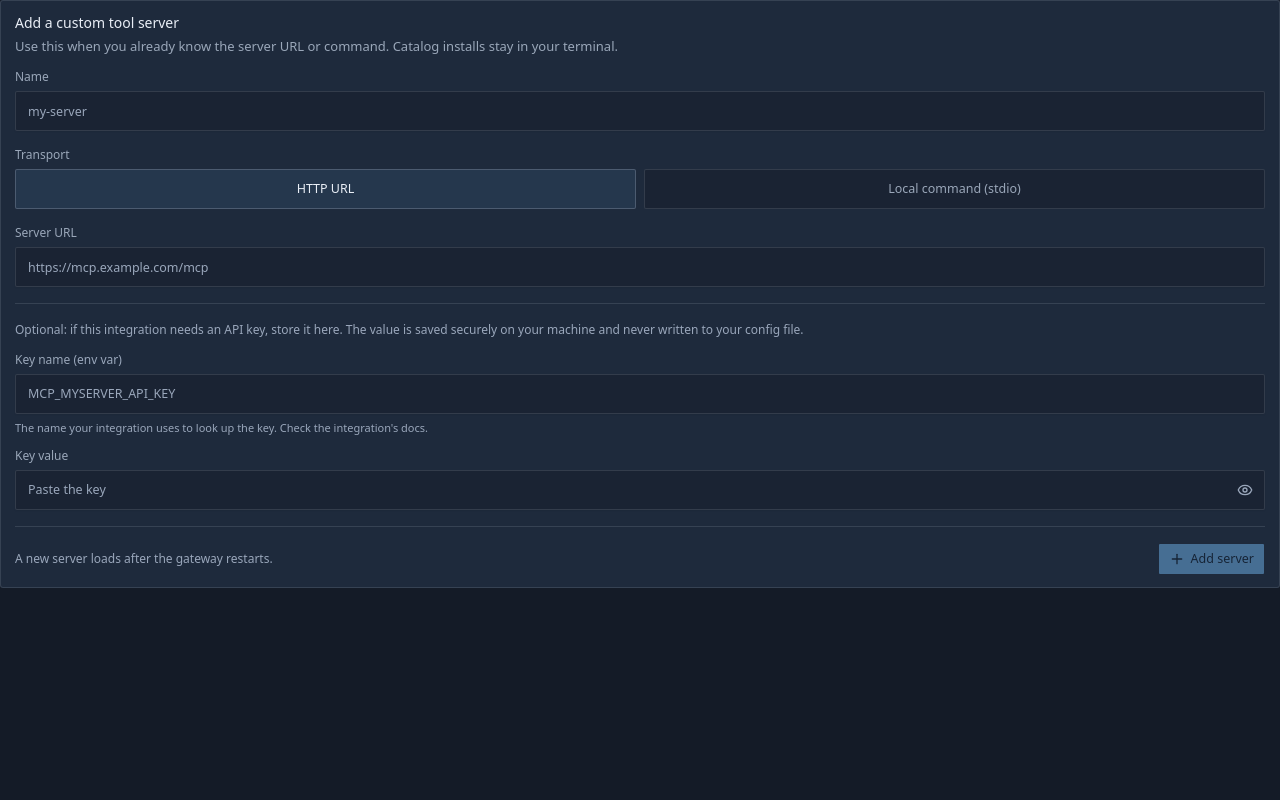
Test: AddMcpServerForm — guided add › blocks submit when a key value has no env var to store it under
Type "k" into the field labelled "Name" at x=640, y=111, box [15,91,1265,131]
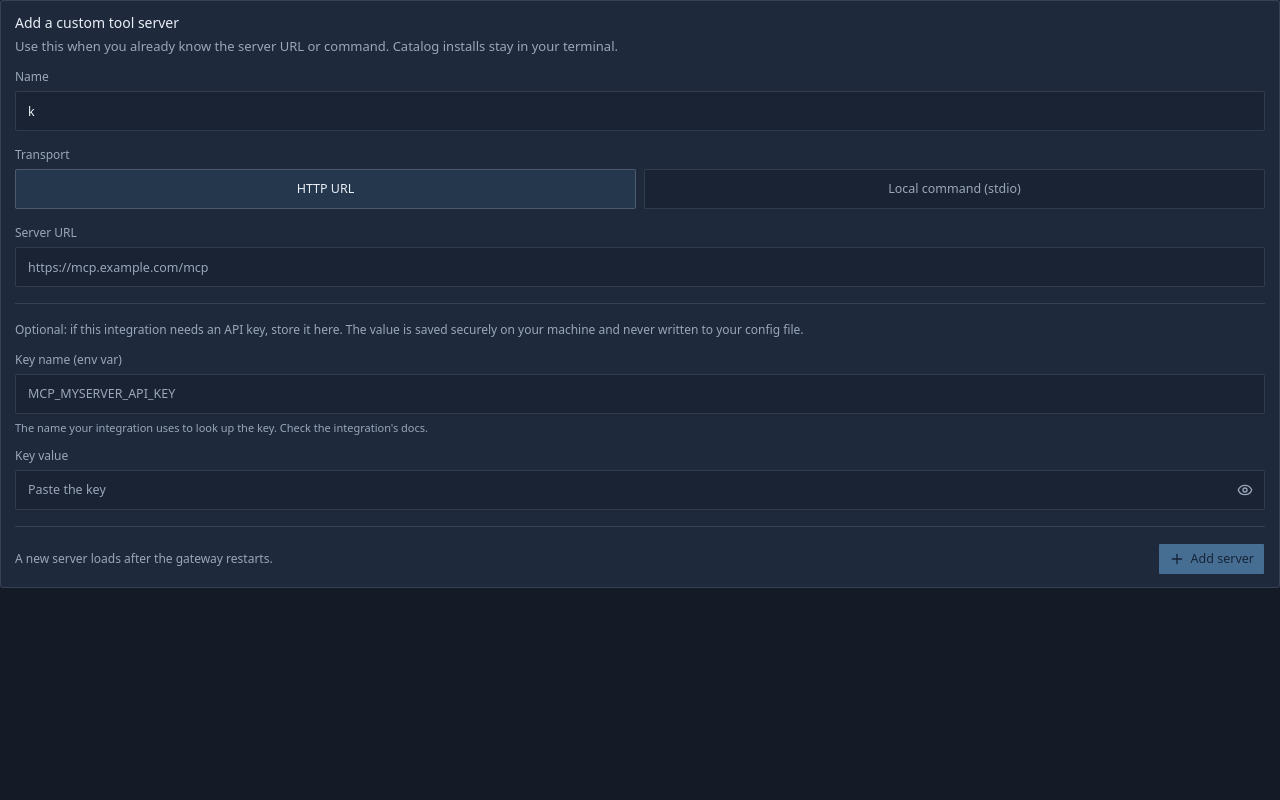
Type "https://x/mcp" into the field labelled "Server URL" at x=640, y=267, box [15,247,1265,287]
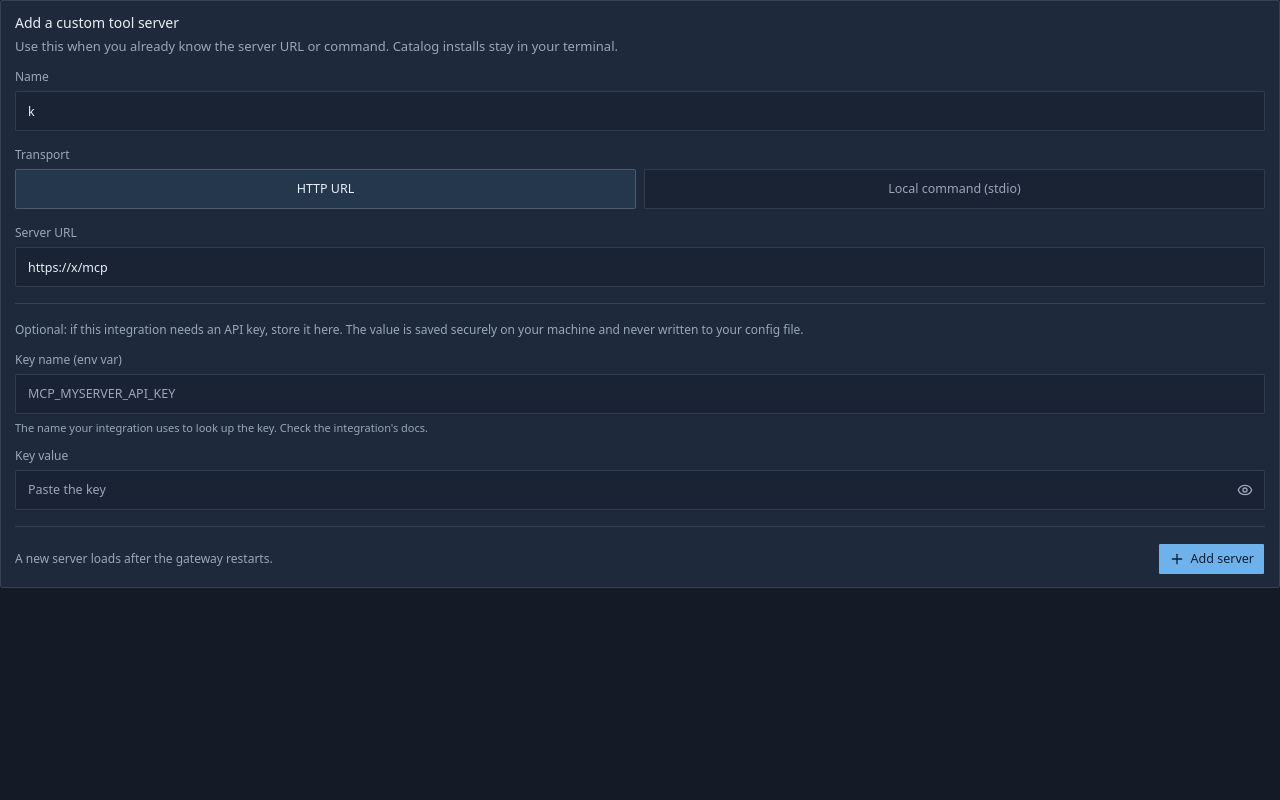
Type "orphan" into the password field labelled "Key value" at x=640, y=490, box [15,470,1265,510]
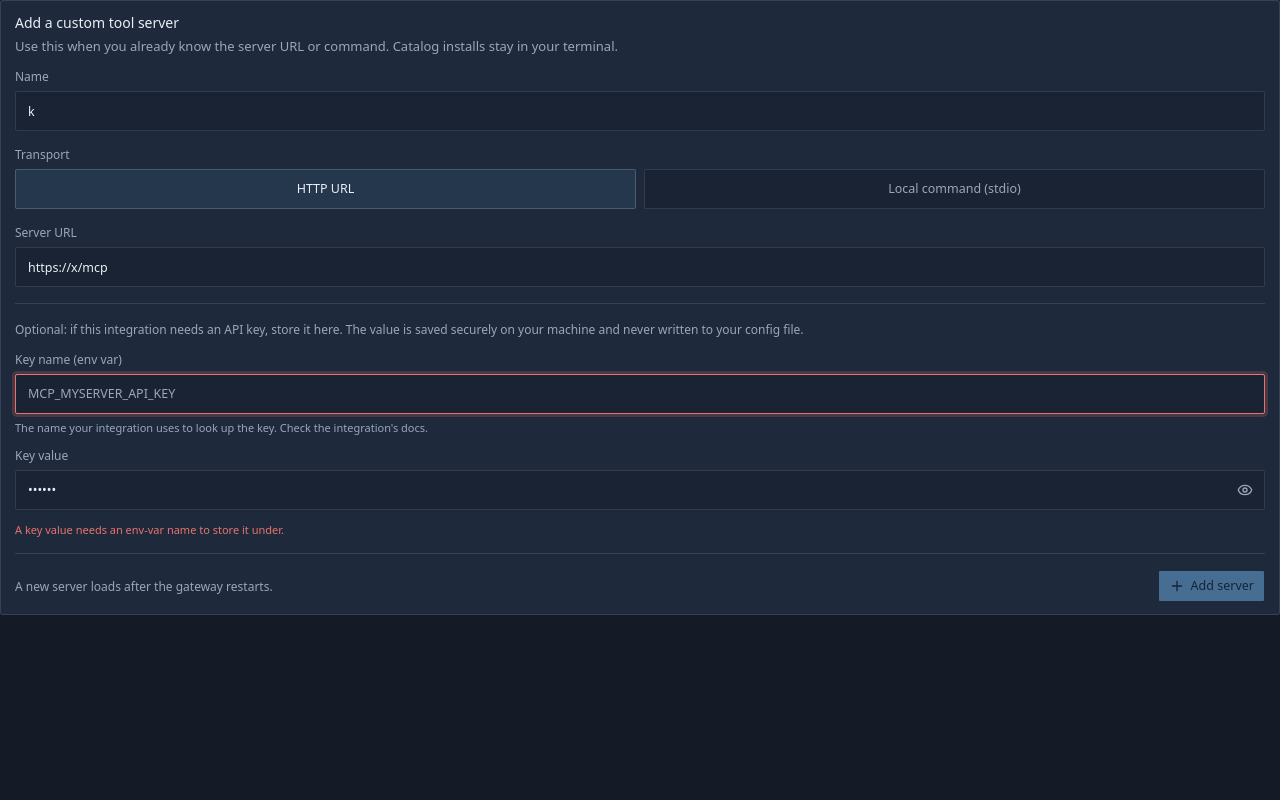
Check: the button "Add server" is disabled, box [1158,570,1265,602]
